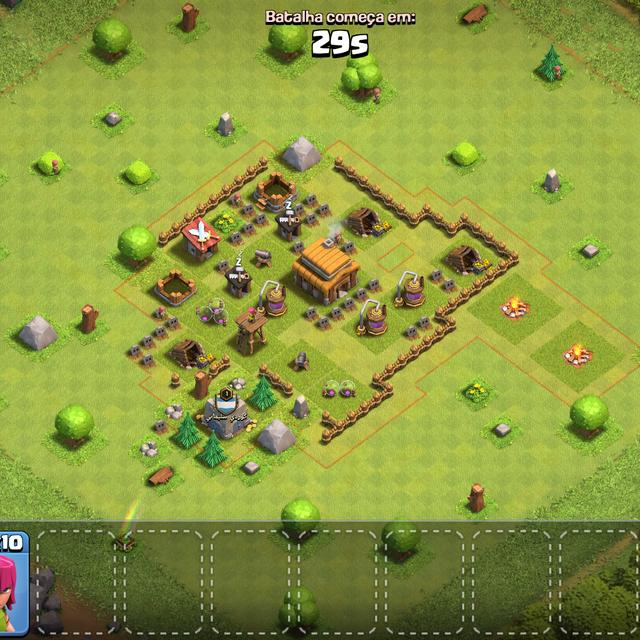Arqueira: (234, 306, 268, 355)
Canhao: (252, 246, 275, 269), (290, 351, 310, 372)
